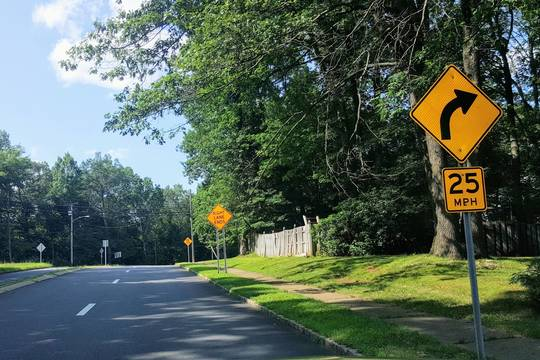right: (406, 61, 502, 163)
